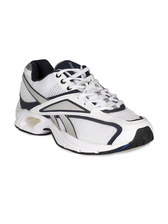shoes: (13, 55, 156, 154)
